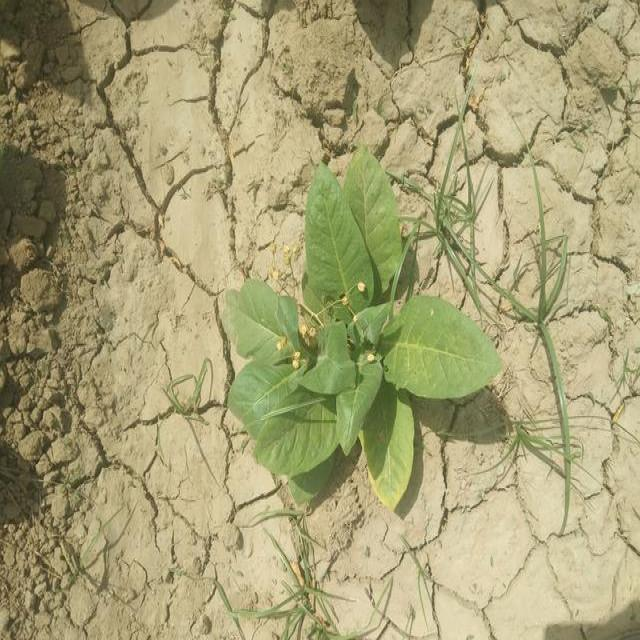crop: (211, 160, 508, 517)
